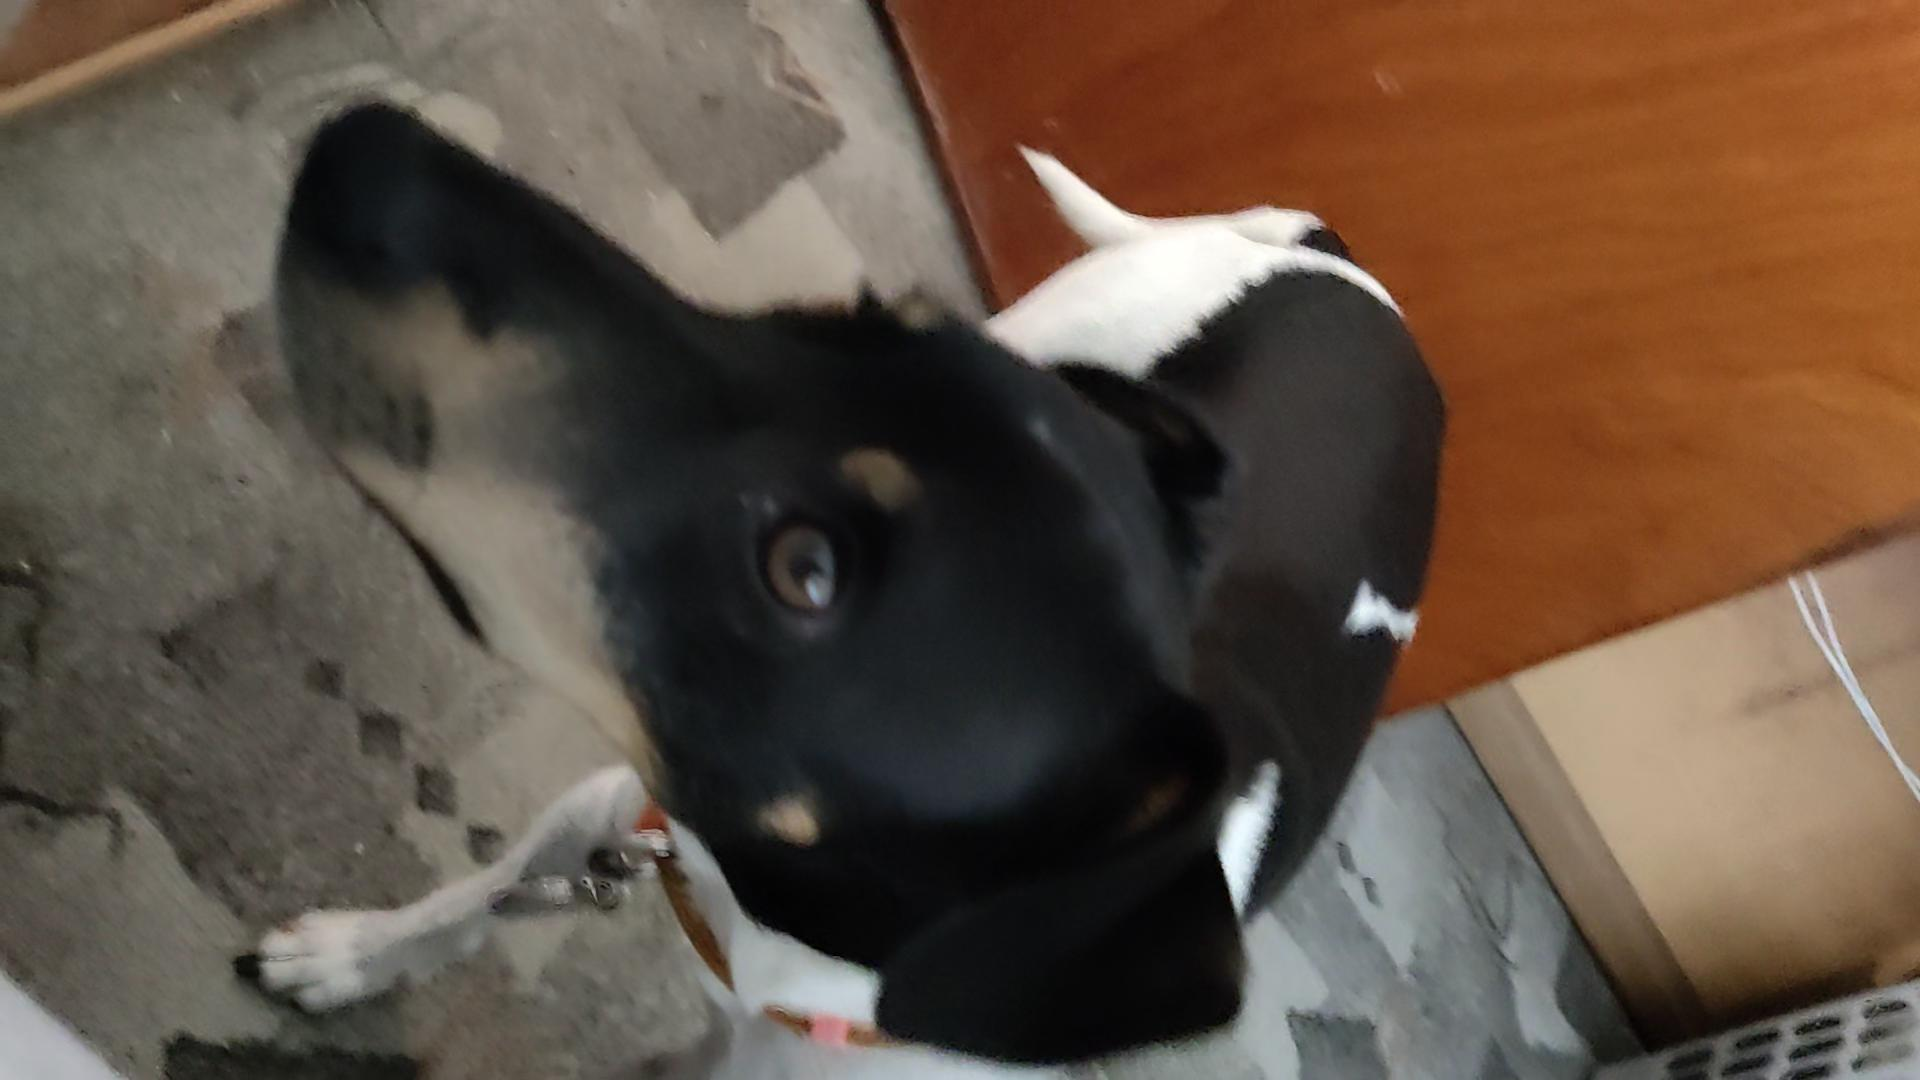Dog: (219, 80, 1455, 1079)
